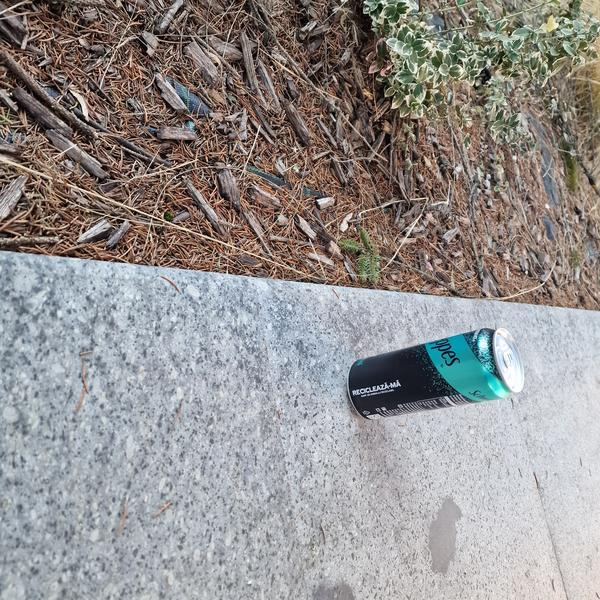can: (340, 322, 530, 431)
